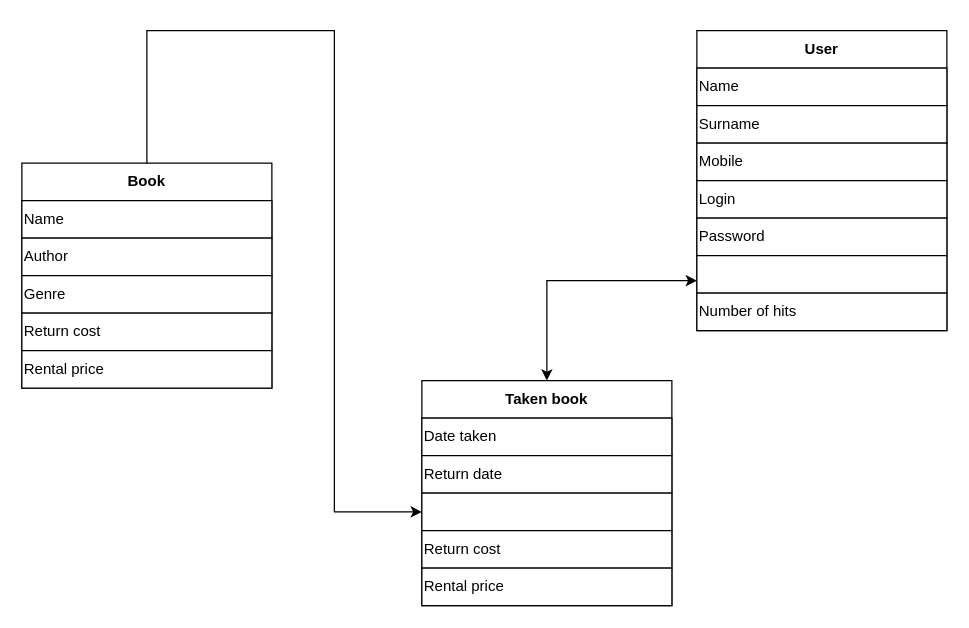
The diagram is 969 pixels wide and 628 high, and some of its shapes have lost their labels. Here are the shapes that lost their labels. From the top down, the centre of each, then its label:
point 821,273: Take book
point 546,511: Book info
